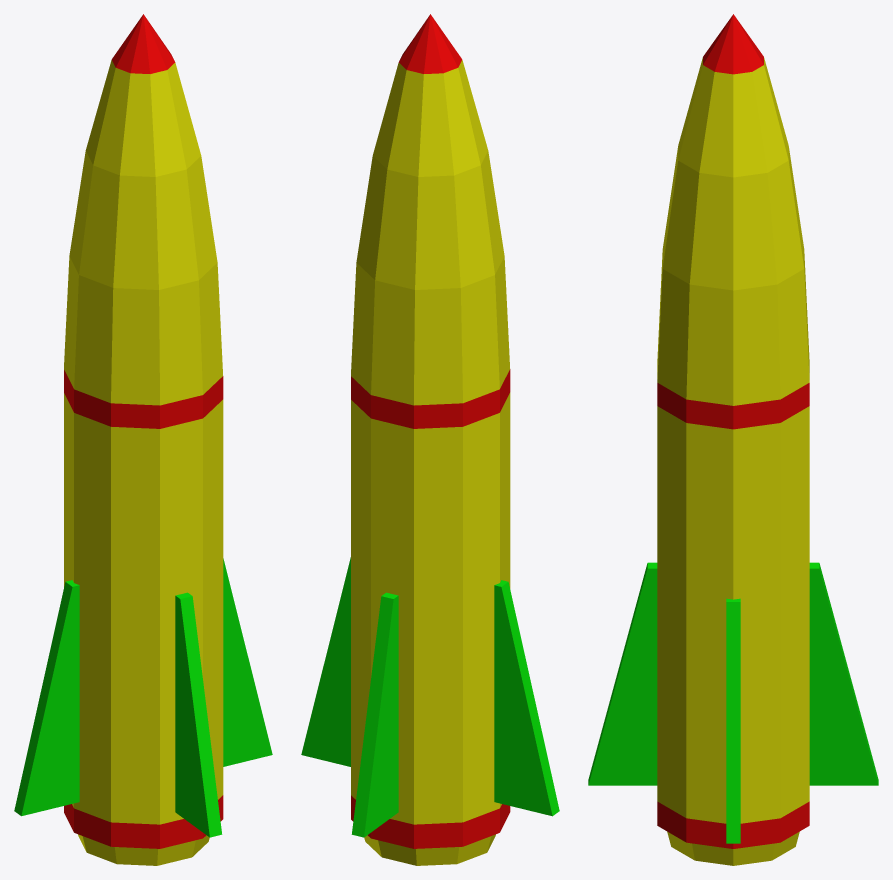
Rendered from Warhead.fbx.
The picture shows the model from 3 angles, left to right: view 1: azimuth 30°, elevation 25°; view 2: azimuth 150°, elevation 25°; view 3: azimuth 270°, elevation 25°; orthographic projection.
Visible parts, largest first — view 1: pCube15; view 2: pCube15; view 3: pCube15.
Boxes of the visible parts, x1,y1,x2,y2 form: pCube15: (14,14,272,865); pCube15: (301,14,559,865); pCube15: (588,14,878,865).
Size of the model in its own units: 1.21 by 3.8 by 1.21.
